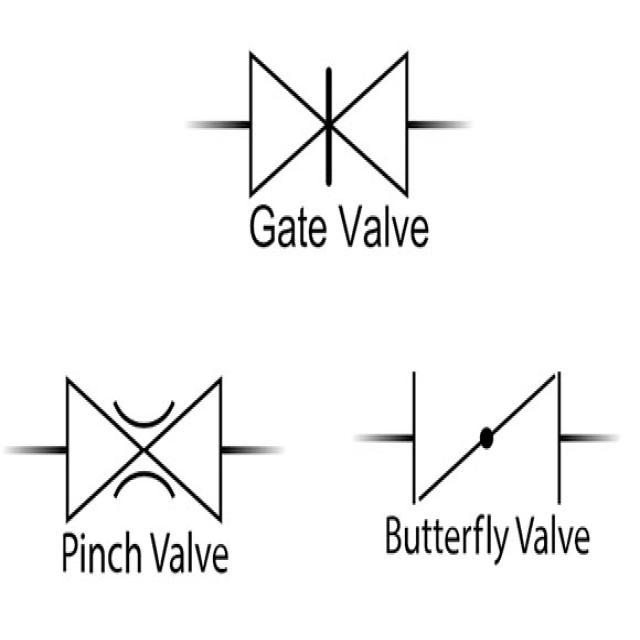Butterfly Valve: (375, 342, 618, 513)
Needle Valve: (224, 33, 428, 201)
Pinch Valve: (30, 344, 250, 532)
